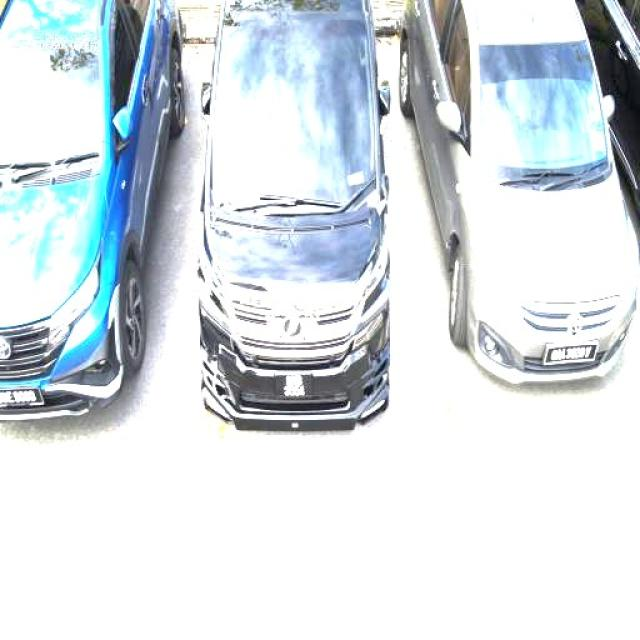Legalparking: (399, 0, 639, 382), (198, 0, 390, 428), (0, 0, 185, 419)
